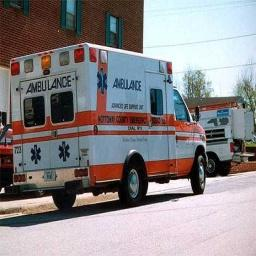Ambulance: (10, 43, 206, 208), (186, 97, 253, 176), (0, 120, 12, 190)
